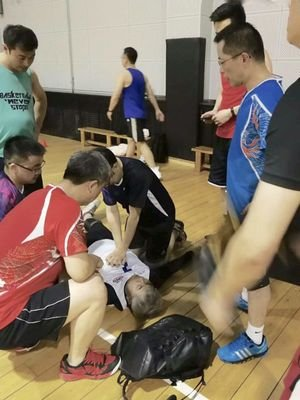fall: (73, 215, 168, 321)
